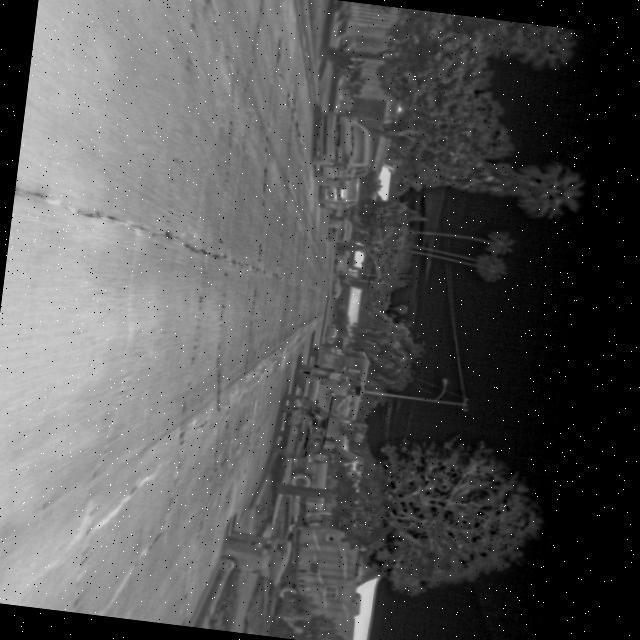Vehicle: (307, 107, 380, 186), (271, 390, 335, 462), (316, 172, 363, 213), (324, 213, 353, 244)
